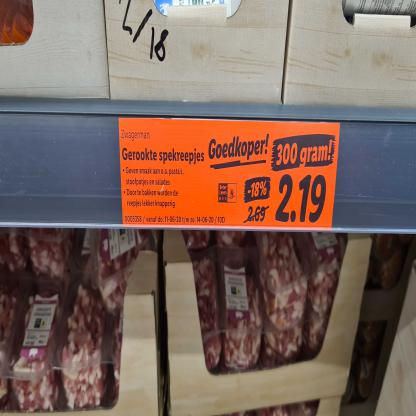prtg: (120, 119, 342, 232)
